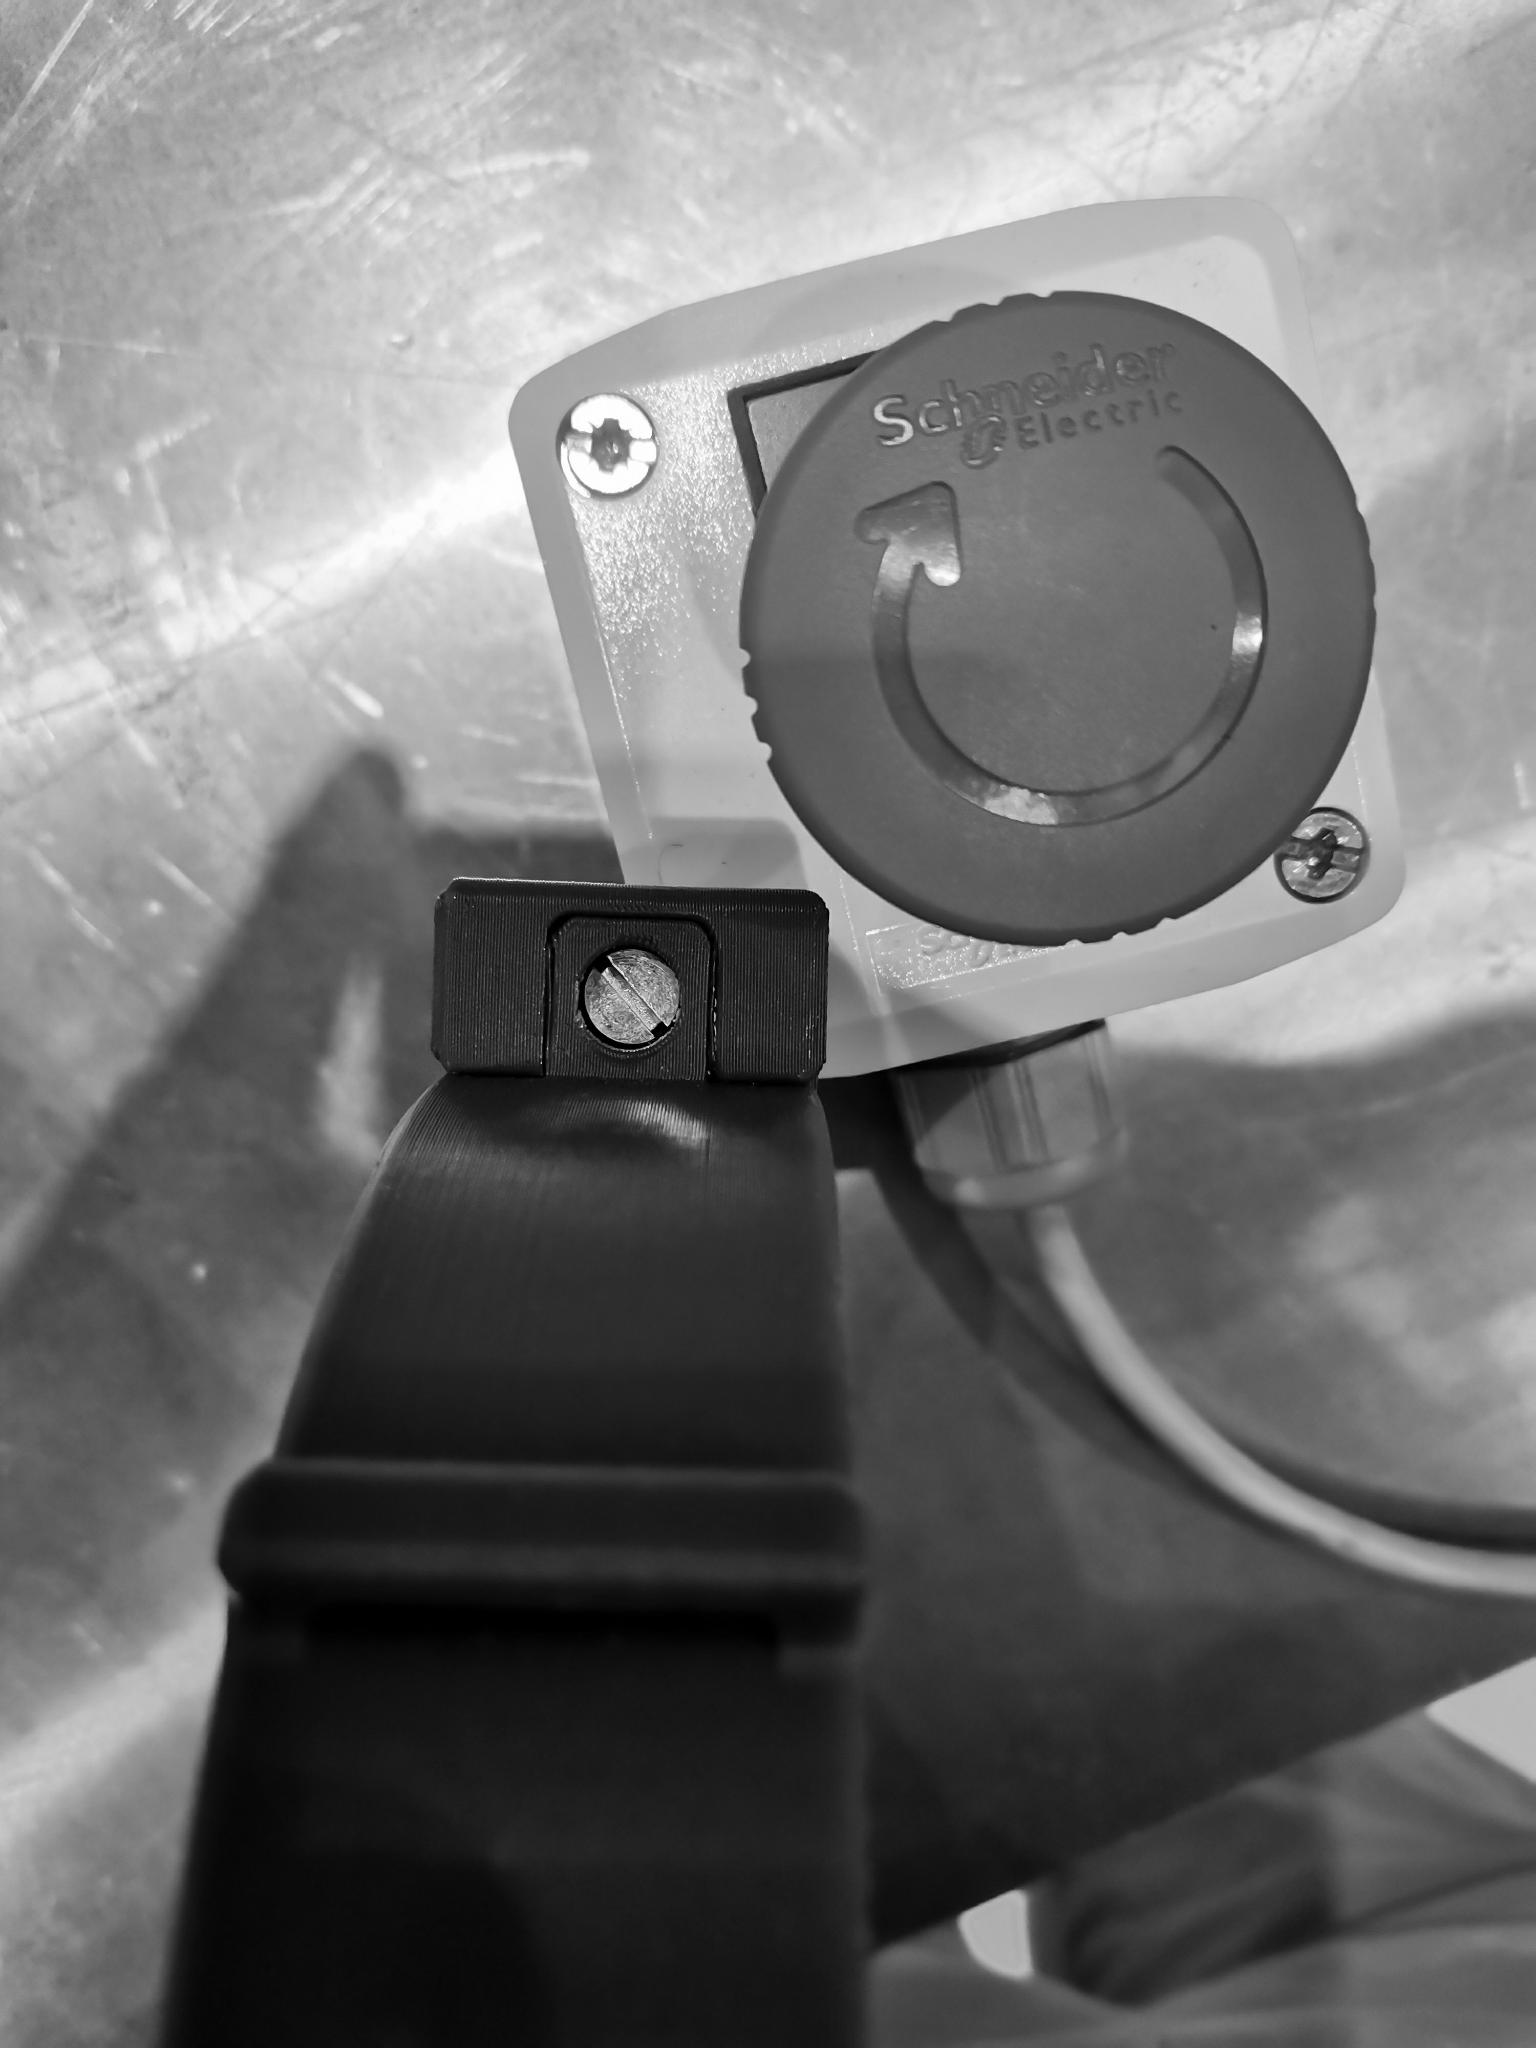slotted: (574, 942, 686, 1050), (553, 390, 668, 493), (1278, 797, 1376, 903)
